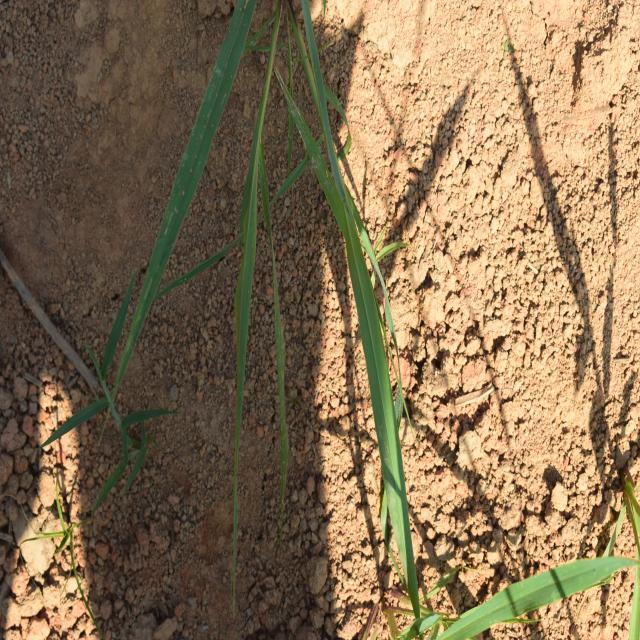green_foxtail: (168, 35, 410, 487)
